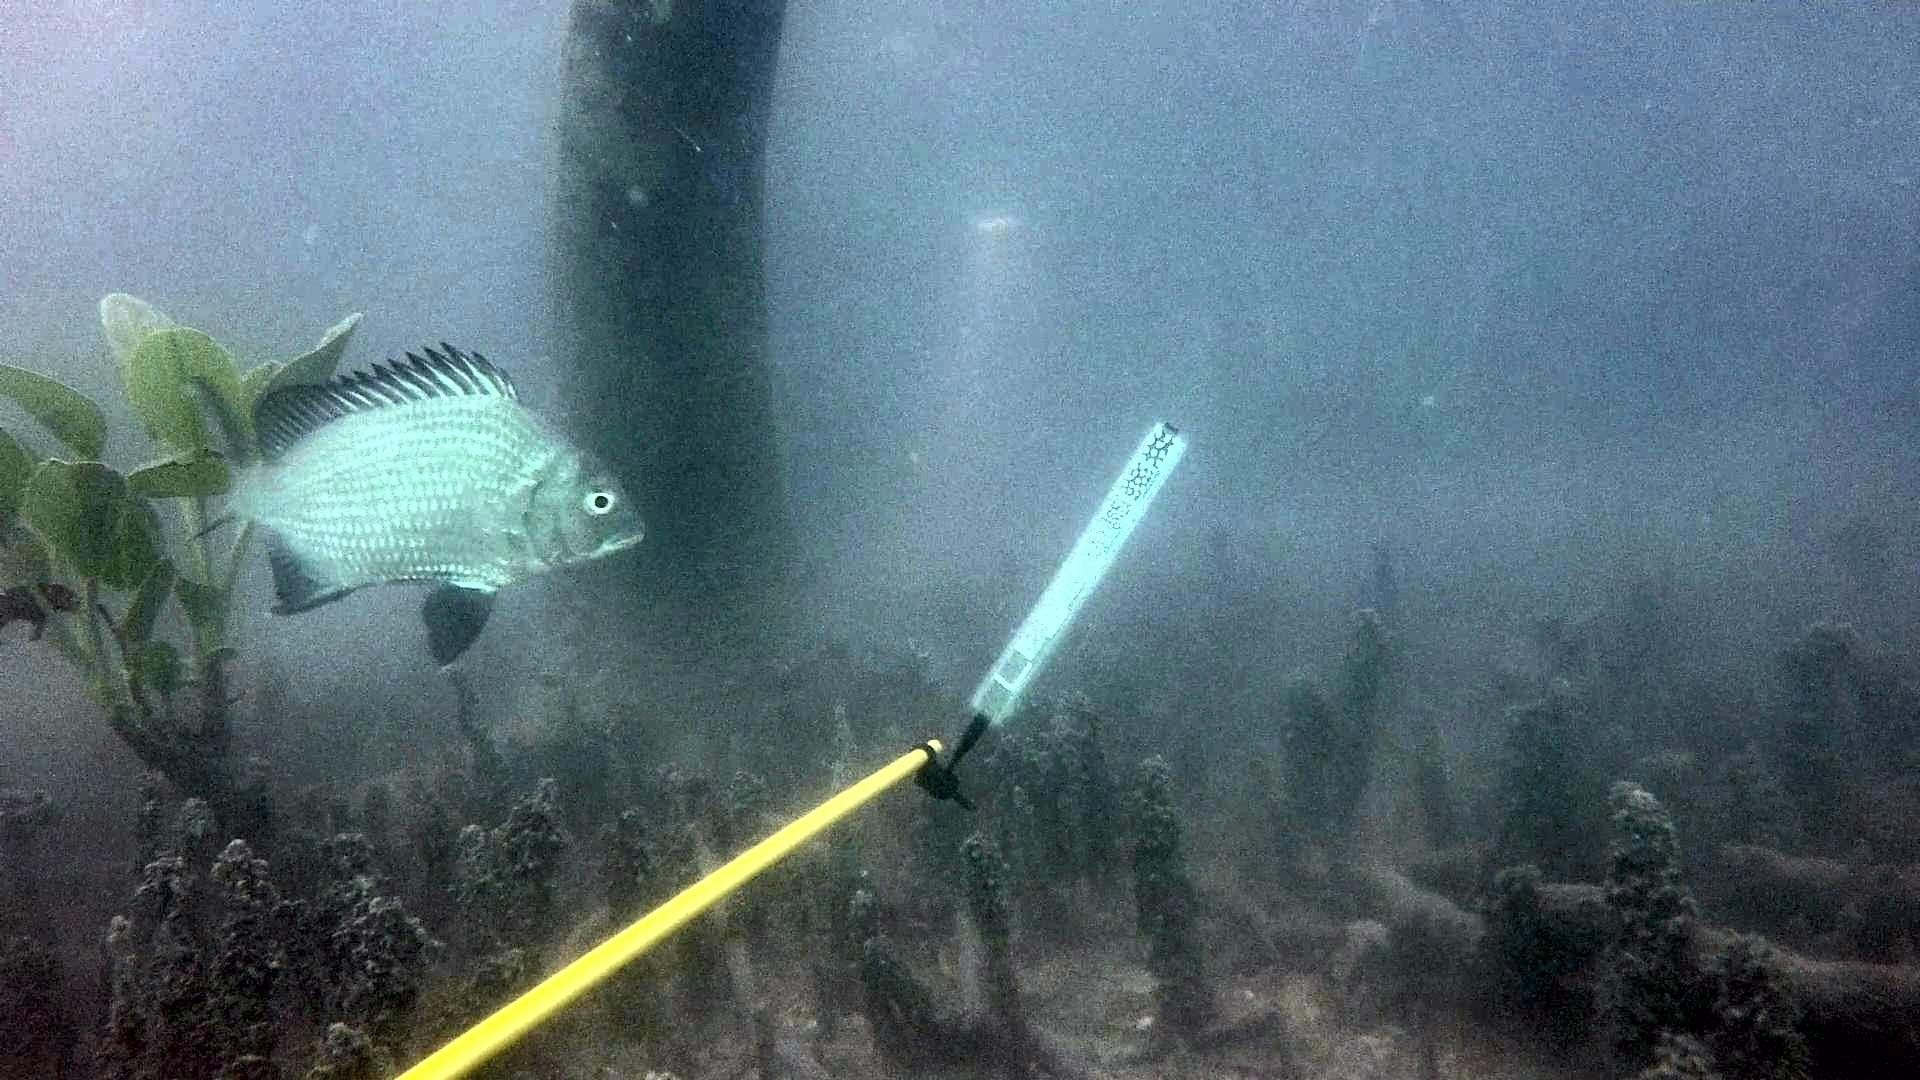acanthopagrus palmaris: (206, 335, 655, 679)
